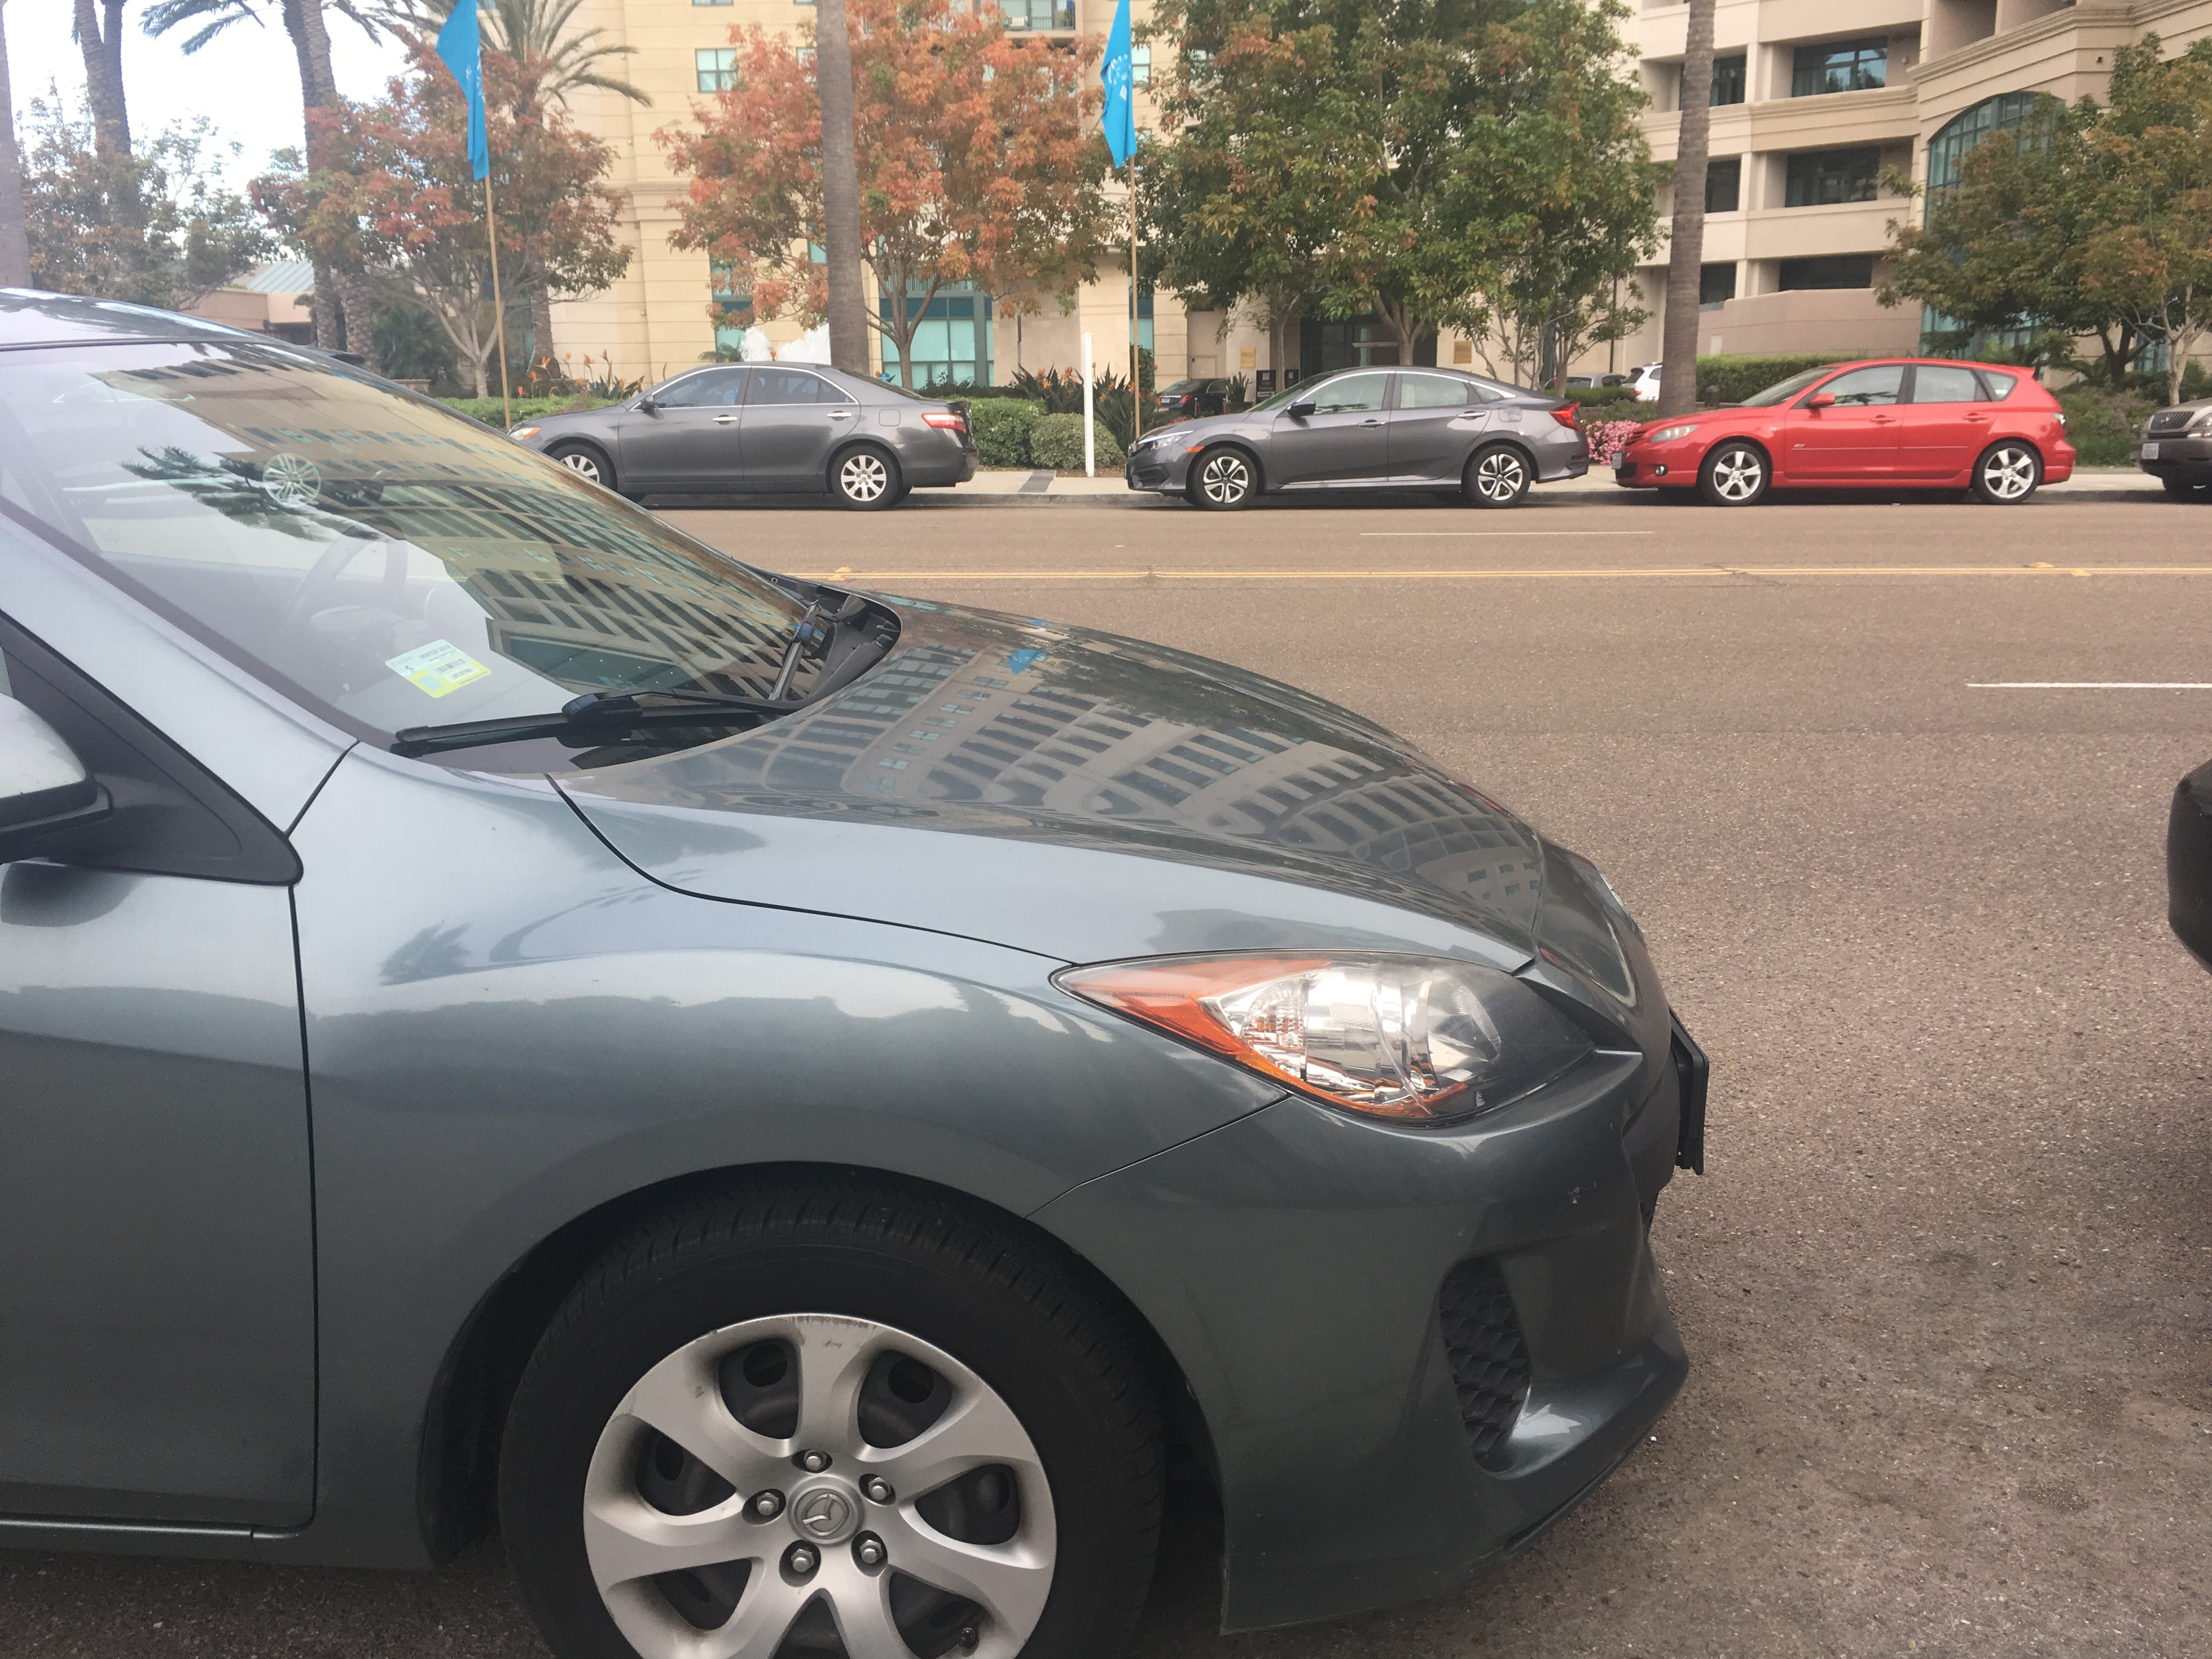Obstacle: (3, 289, 1745, 1647), (1601, 343, 2088, 530), (486, 357, 1000, 509), (1120, 362, 1609, 516)
